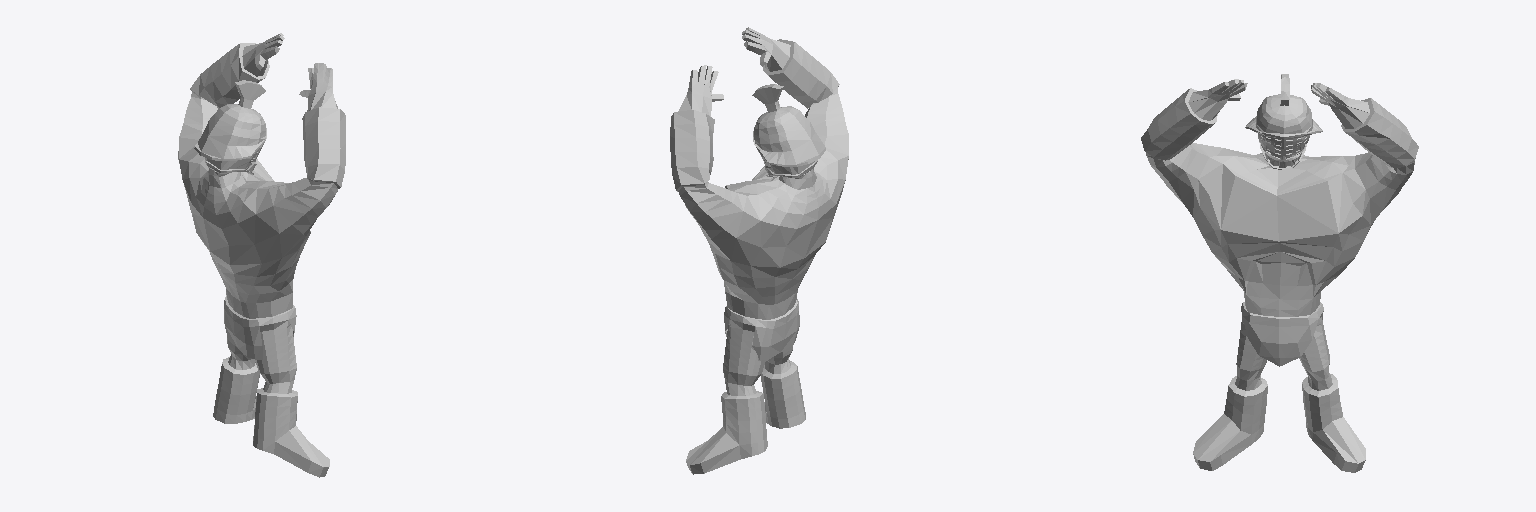
Rendered from GladiatorCelebracion_000257.obj.
3 renders of one model, left to right at view 1: azimuth 30°, elevation 25°; view 2: azimuth 150°, elevation 25°; view 3: azimuth 270°, elevation 25°, orthographic.
Parts seen in each view (by area): view 1: Cube_Cube.001; view 2: Cube_Cube.001; view 3: Cube_Cube.001.
Boxes of the visible parts, x1=… form: Cube_Cube.001: x1=178, y1=33, x2=345, y2=477; Cube_Cube.001: x1=670, y1=27, x2=848, y2=474; Cube_Cube.001: x1=1141, y1=74, x2=1418, y2=472.
Size of the model in its own units: 1.79 by 6.3 by 4.01.